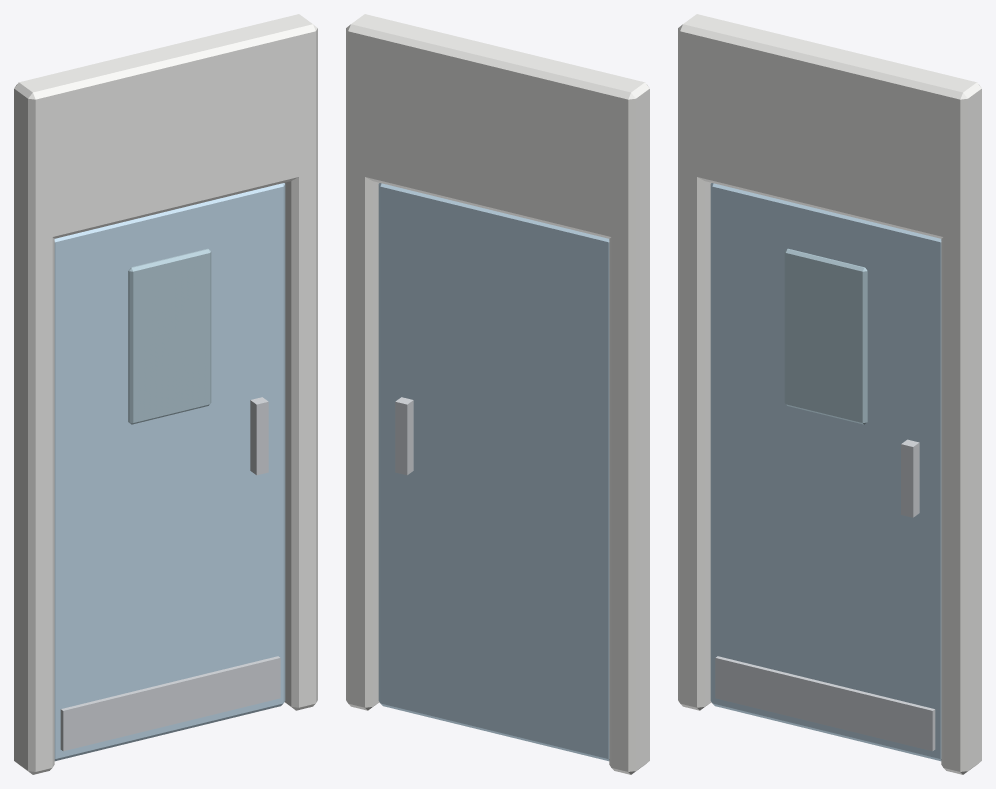
Rendered from door-leaf.glb.
3 renders of one model, left to right at view 1: azimuth 30°, elevation 25°; view 2: azimuth 150°, elevation 25°; view 3: azimuth 330°, elevation 25°, orthographic.
Parts seen in each view (by area): view 1: door, door-leaf, door-glass, door-steel; view 2: door, door-leaf, door-steel; view 3: door, door-leaf, door-glass, door-steel.
Part boxes in pixels (box(x1,y1,x2,y2)): door: box(54, 183, 285, 761); door-leaf: box(14, 14, 317, 774); door-glass: box(128, 248, 211, 424); door-steel: box(60, 397, 280, 751); door: box(378, 183, 609, 761); door-leaf: box(346, 14, 649, 774); door-steel: box(395, 397, 413, 475); door: box(710, 183, 941, 761); door-leaf: box(678, 14, 981, 774); door-glass: box(784, 248, 867, 424); door-steel: box(715, 439, 935, 751).
Size of the model in its own units: 1.2 by 2.7 by 0.1401.
